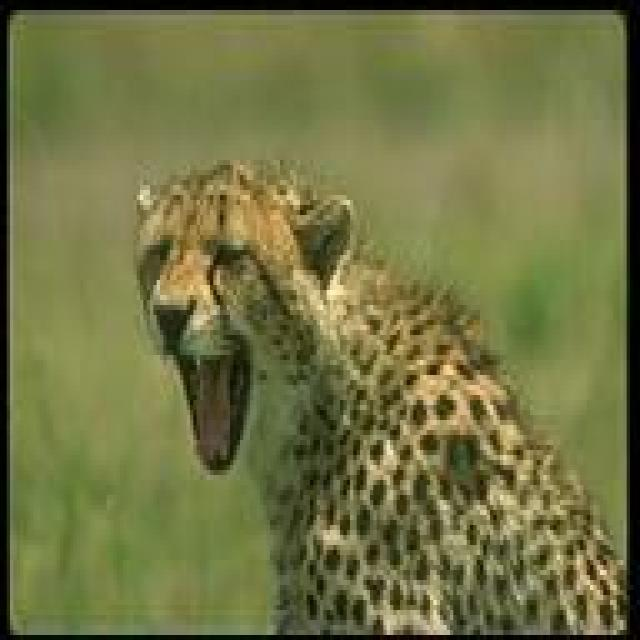Leopard: (134, 155, 626, 630)
